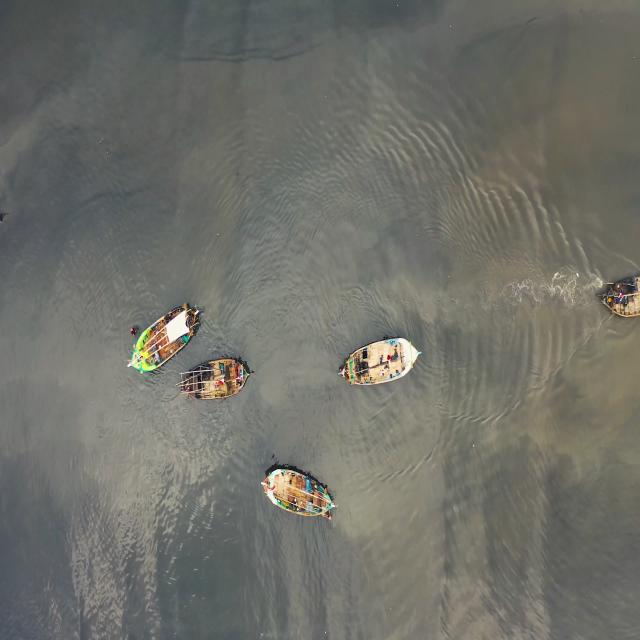ship: (125, 301, 202, 373), (261, 458, 339, 518), (176, 352, 254, 405), (338, 336, 421, 384), (600, 273, 638, 325)
